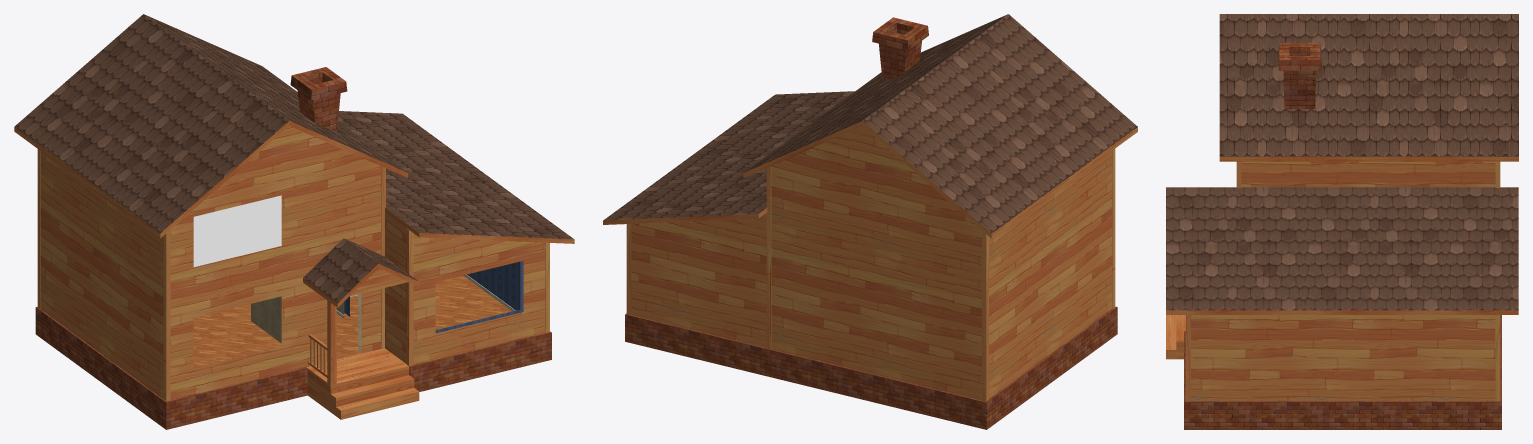
3 renders of one model, left to right at view 1: azimuth 30°, elevation 25°; view 2: azimuth 150°, elevation 25°; view 3: azimuth 270°, elevation 25°, orthographic. The views are drawn at different scales.
Parts seen in each view (by area): view 1: Object_10, Object_6, Object_5, Object_8, Object_9, Object_2, Object_4, Object_3; view 2: Object_10, Object_6, Object_5, Object_8; view 3: Object_6, Object_10, Object_5, Object_8.
Part boxes in pixels (box(x1,y1,x2,y2)): Object_10: box(37, 126, 549, 401); Object_6: box(14, 14, 573, 302); Object_5: box(35, 67, 551, 429); Object_8: box(14, 121, 574, 419); Object_9: box(193, 275, 511, 367); Object_2: box(193, 195, 281, 266); Object_4: box(344, 260, 523, 333); Object_3: box(251, 293, 361, 350); Object_10: box(626, 126, 1115, 401); Object_6: box(603, 14, 1137, 233); Object_5: box(625, 17, 1117, 429); Object_8: box(603, 121, 1137, 238); Object_6: box(1166, 14, 1518, 310); Object_10: box(1186, 161, 1500, 401); Object_5: box(1184, 42, 1501, 429); Object_8: box(1166, 156, 1518, 359).
Size of the model in its own units: 13.35 by 9.41 by 10.25.
9 materials, 9 textured.
